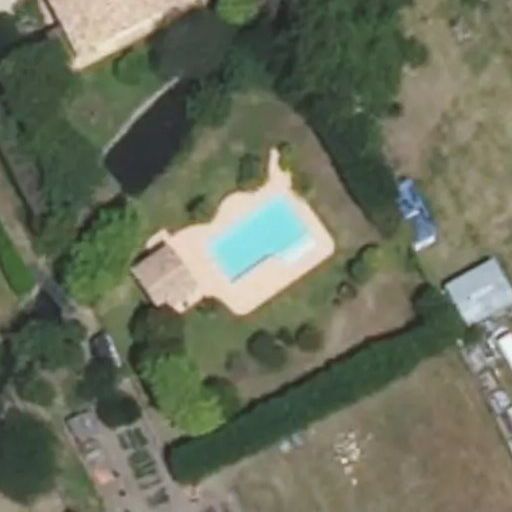pool: (208, 198, 316, 283)
